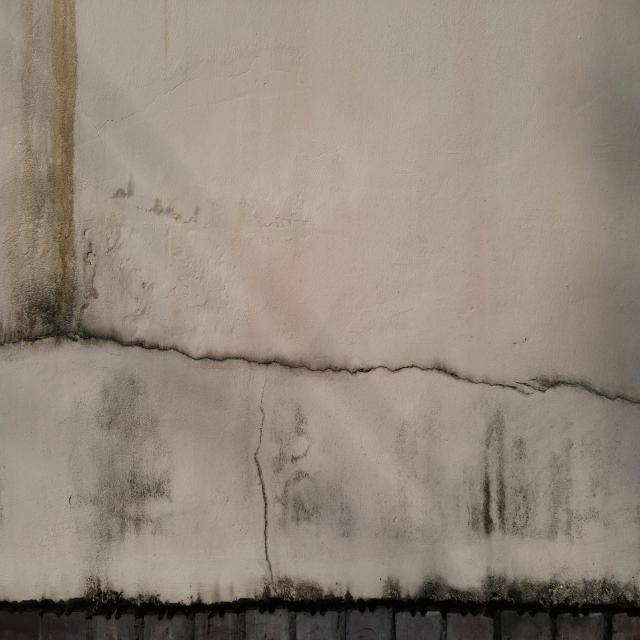SurfaceCrack: (6, 262, 639, 440)
